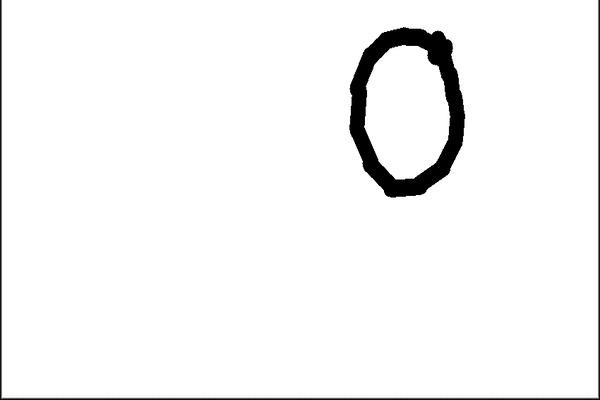O: (338, 23, 474, 198)
